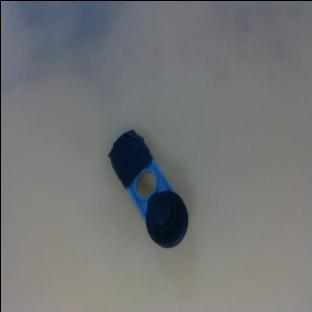part_1_bad: (95, 126, 199, 254)
